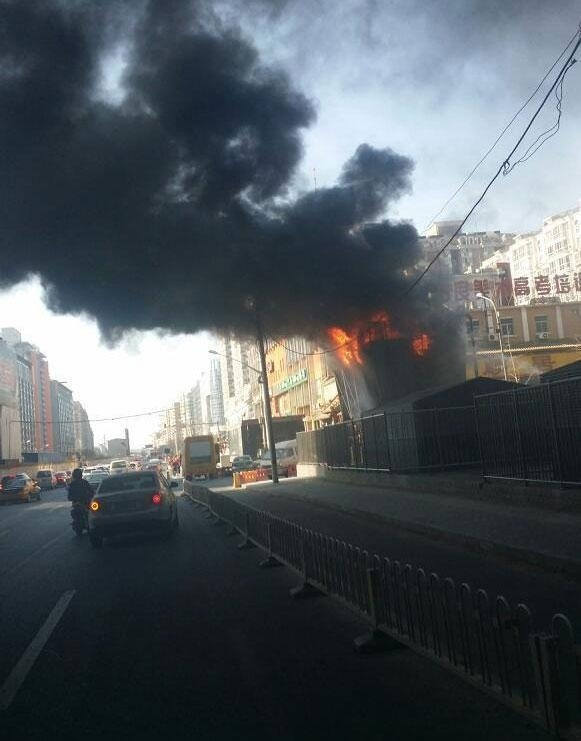fire: (330, 313, 428, 365)
